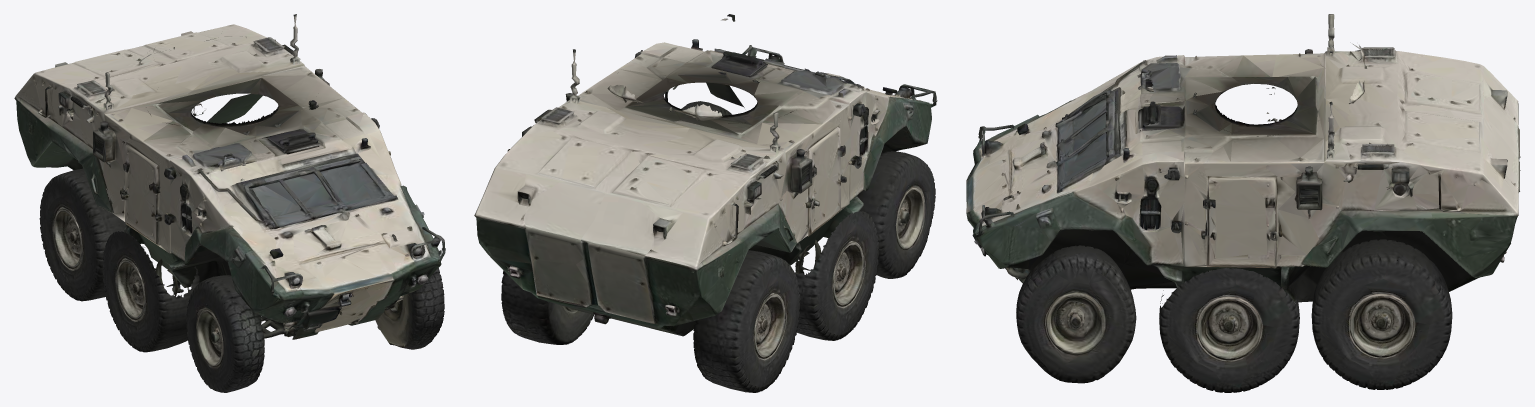
The model's file is t94_bulldog_lod0.glb.
The picture shows the model from 3 angles, left to right: view 1: azimuth 30°, elevation 25°; view 2: azimuth 150°, elevation 25°; view 3: azimuth 270°, elevation 25°; orthographic projection. The views are drawn at different scales.
Size of the model in its own units: 2.69 by 2.75 by 4.91.
1 material, 1 textured.
